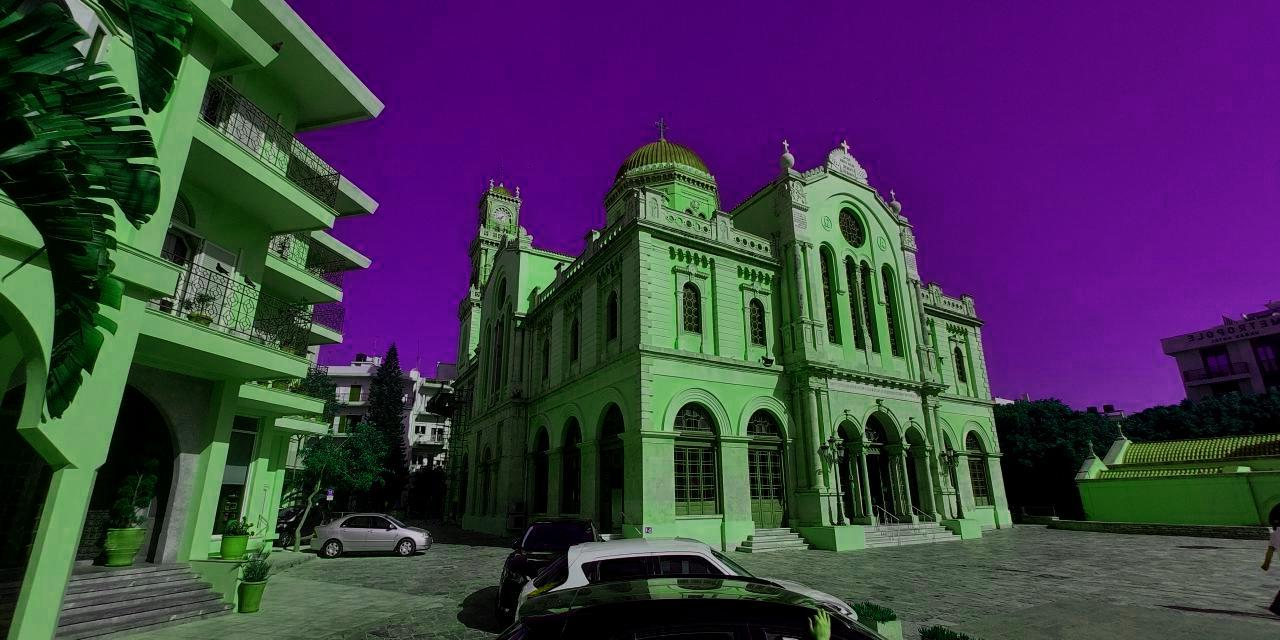Agios Minas: (437, 118, 1011, 544)
